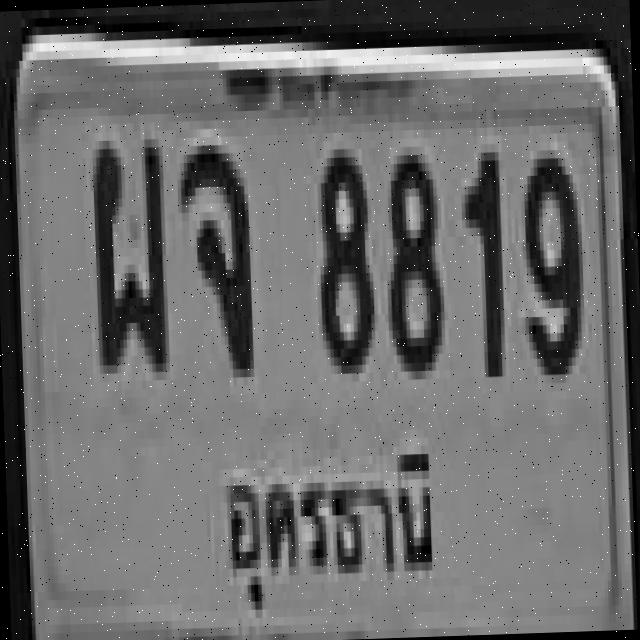1: (459, 143, 502, 370)
17ChorChan: (175, 136, 250, 370)
37PhorPhueng: (88, 130, 166, 365)
8: (312, 140, 372, 366), (382, 146, 439, 364)
9: (519, 141, 579, 367)
UdonThani: (208, 423, 455, 638)
